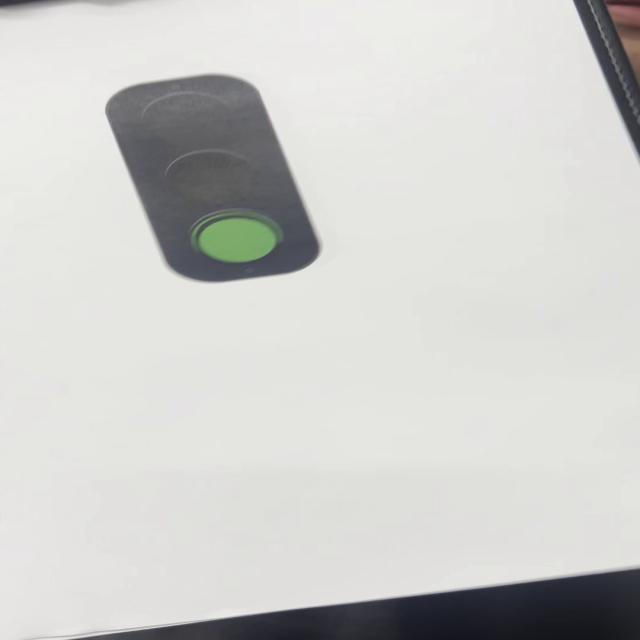green: (105, 77, 321, 283)
